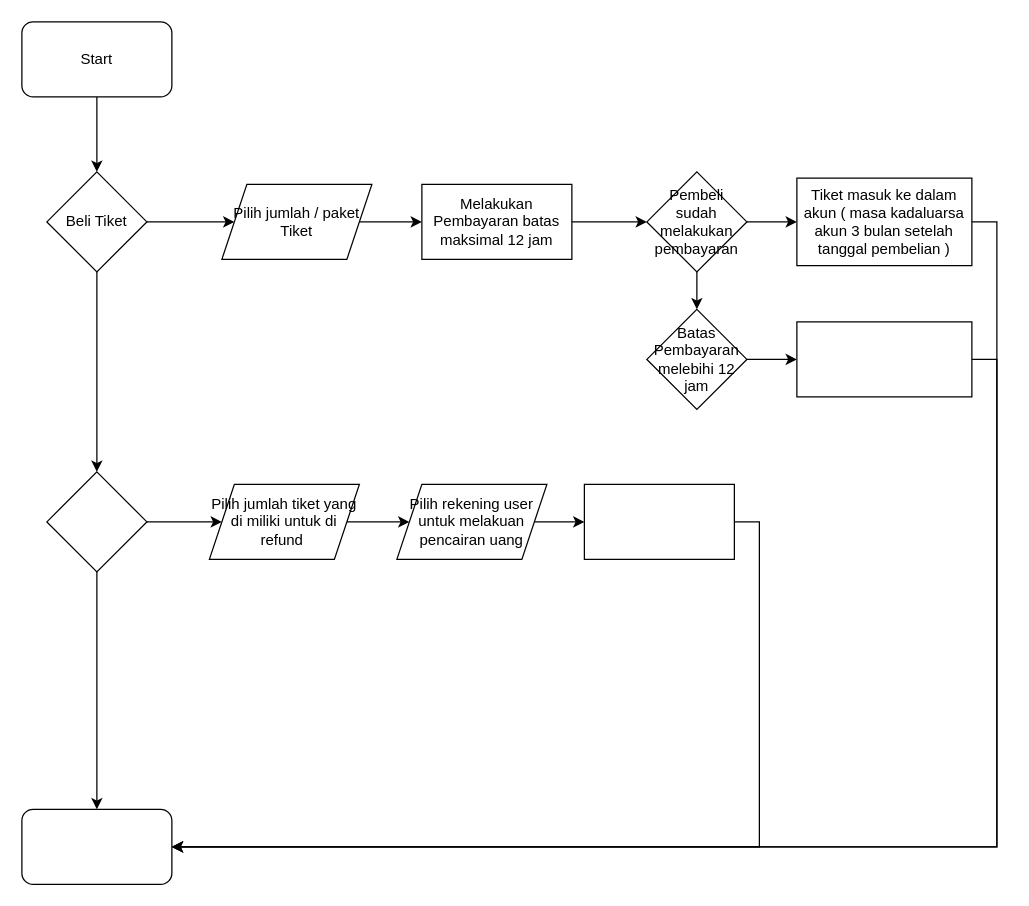
Image size: 1029x906. Some labels were removed from this diagram. The box of each missing label's shape, as (x1, y1, x2, y2) in pixels:
End: (21, 808, 172, 884)
Refund Tiket: (46, 471, 147, 572)
Transaksi Batal / Kadaluarsa: (796, 321, 972, 397)
Transfer akan di proses 1x24 jam sesuai dengan nominal pembelian tiket: (583, 483, 734, 559)
